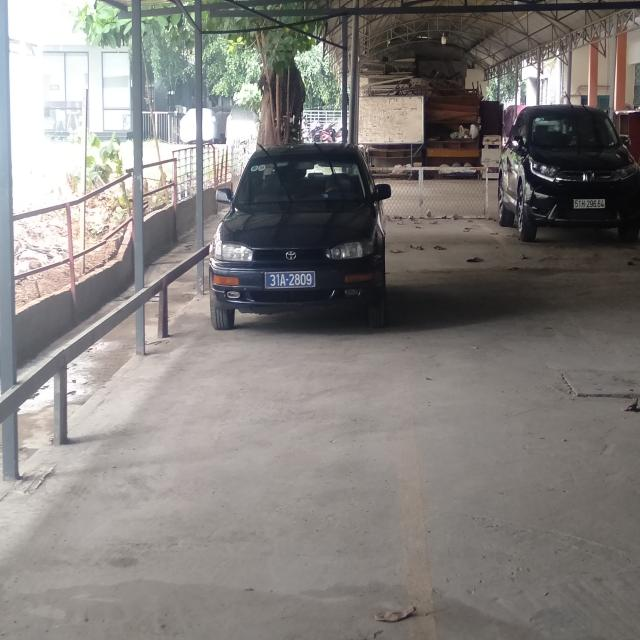bien_trang: (571, 196, 607, 212)
bien_xanh: (261, 267, 316, 291)
